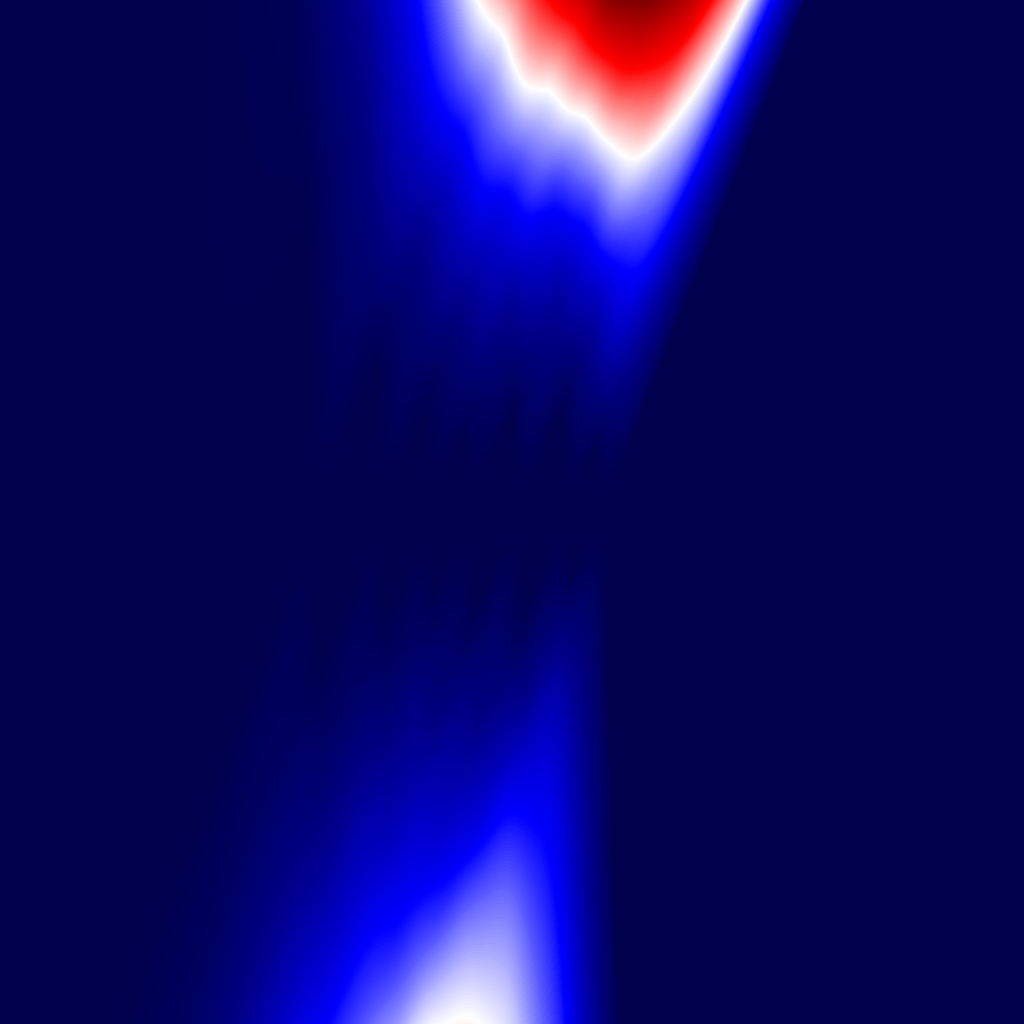diamond: (194, 224, 317, 800), (318, 354, 386, 670), (472, 397, 521, 627), (522, 402, 569, 622), (386, 404, 432, 620), (433, 419, 473, 605), (570, 432, 604, 592)
